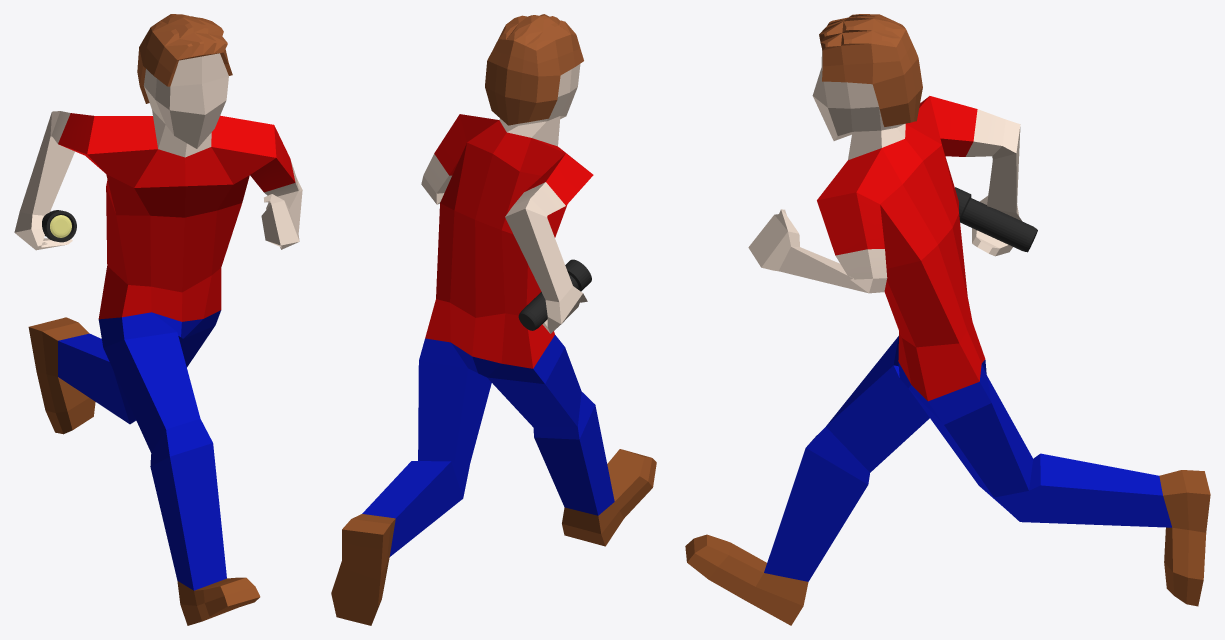
The model's file is Human_running_17.fbx.
The picture shows the model from 3 angles, left to right: view 1: azimuth 30°, elevation 25°; view 2: azimuth 150°, elevation 25°; view 3: azimuth 270°, elevation 25°; orthographic projection. The views are drawn at different scales.
Parts seen in each view (by area): view 1: Person.004, Flashlight; view 2: Person.004, Flashlight; view 3: Person.004, Flashlight.
Boxes of the visible parts, x1,y1,x2,y2 form: Person.004: (14, 14, 302, 625); Flashlight: (42, 210, 76, 242); Person.004: (331, 14, 656, 625); Flashlight: (518, 259, 591, 330); Person.004: (685, 14, 1210, 625); Flashlight: (955, 187, 1037, 252).
Size of the model in its own units: 0.5977 by 1.48 by 1.15.
